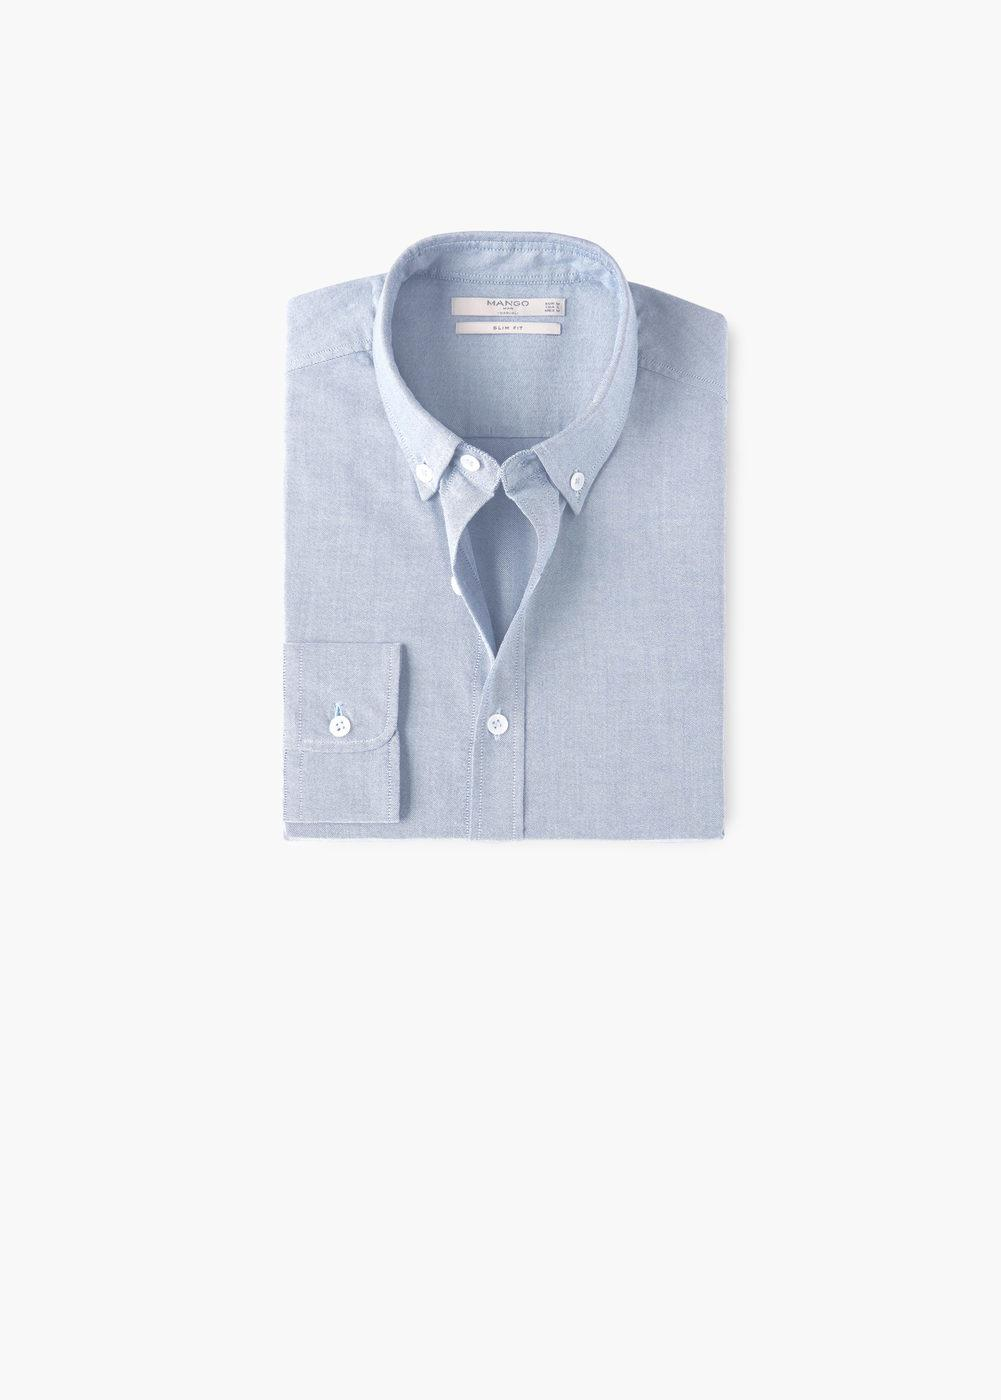teeshirt: (274, 225, 742, 872)
